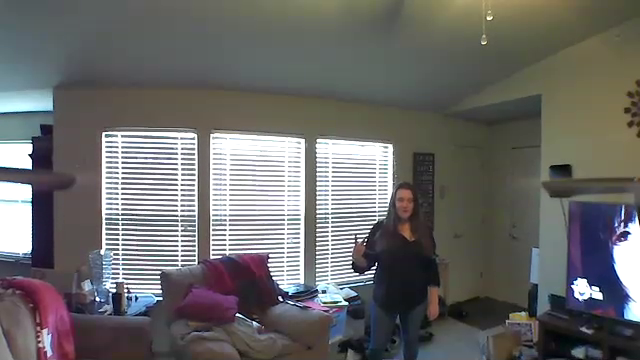peace: (348, 231, 375, 265)
